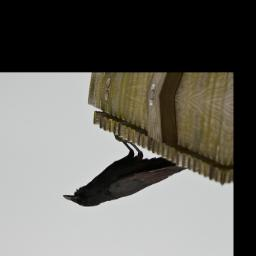Crow: (62, 128, 191, 220)
